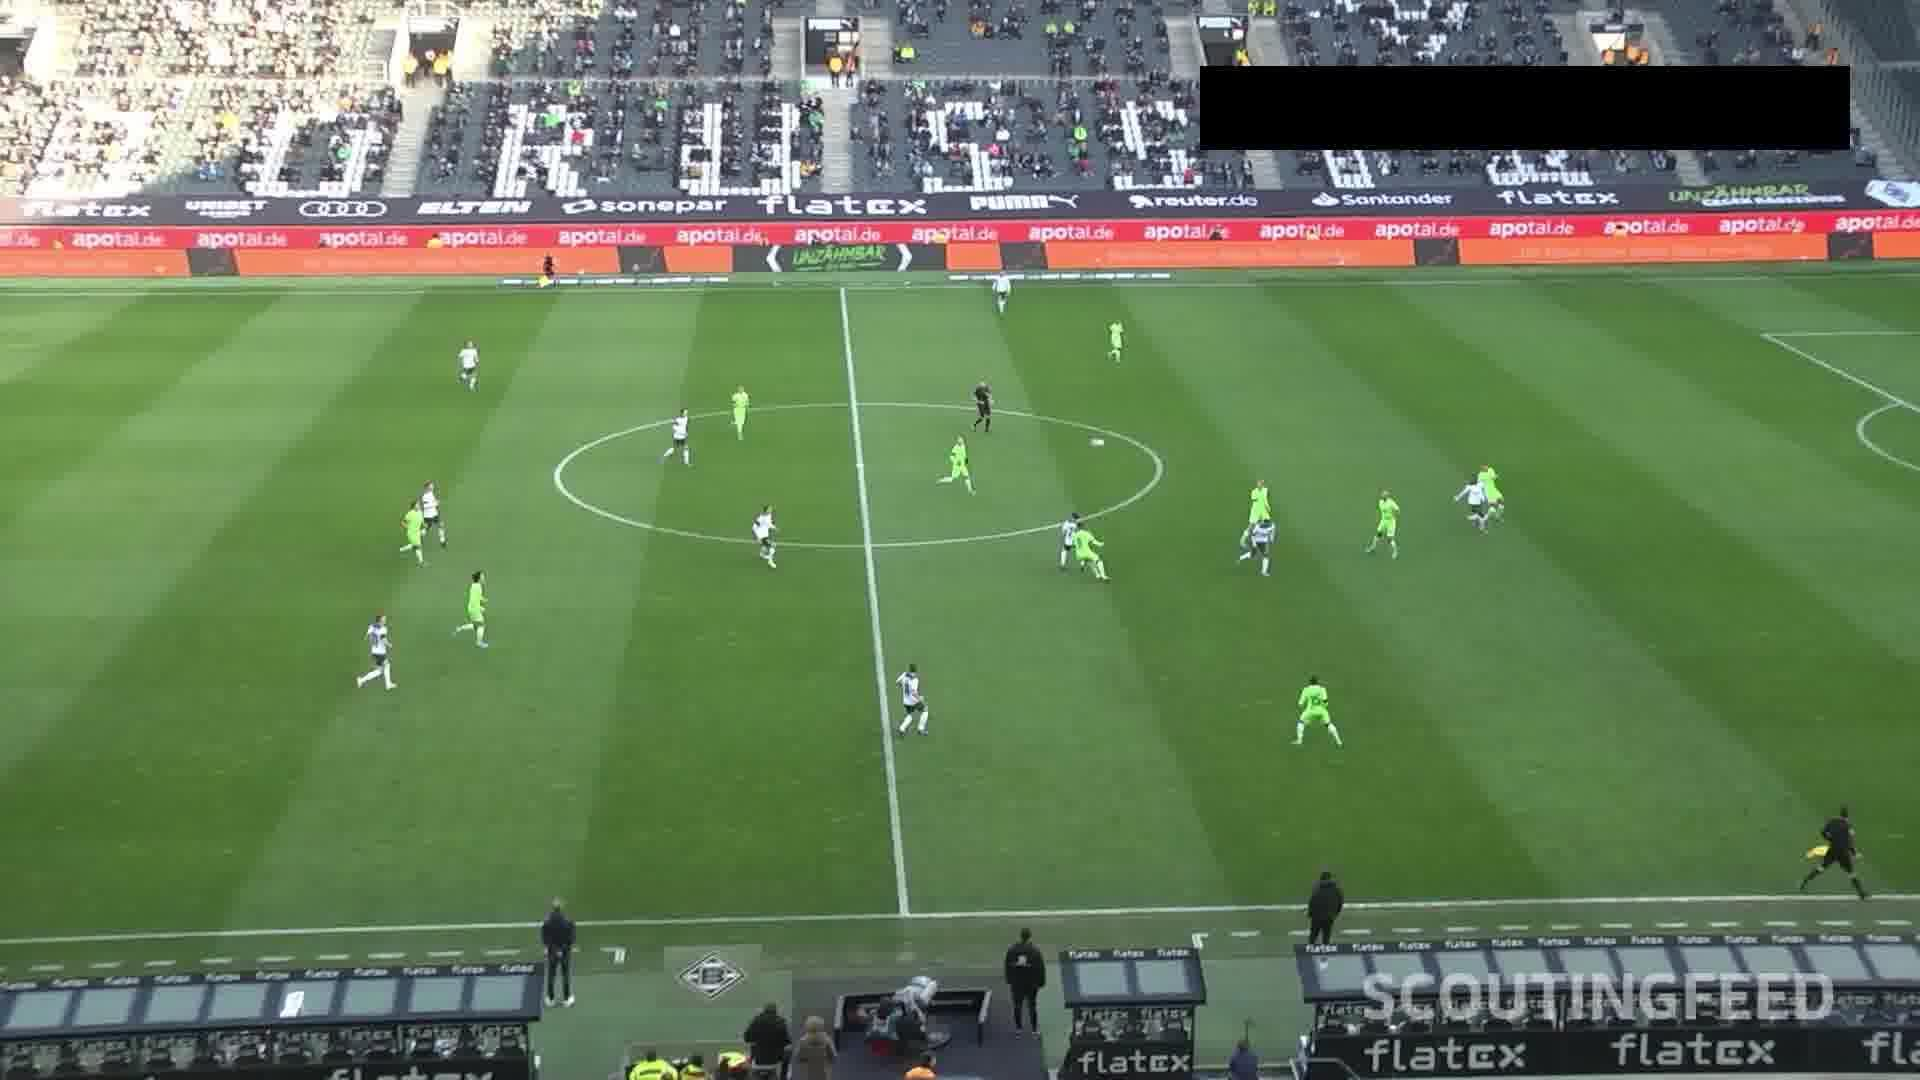football: (1088, 434, 1106, 450)
